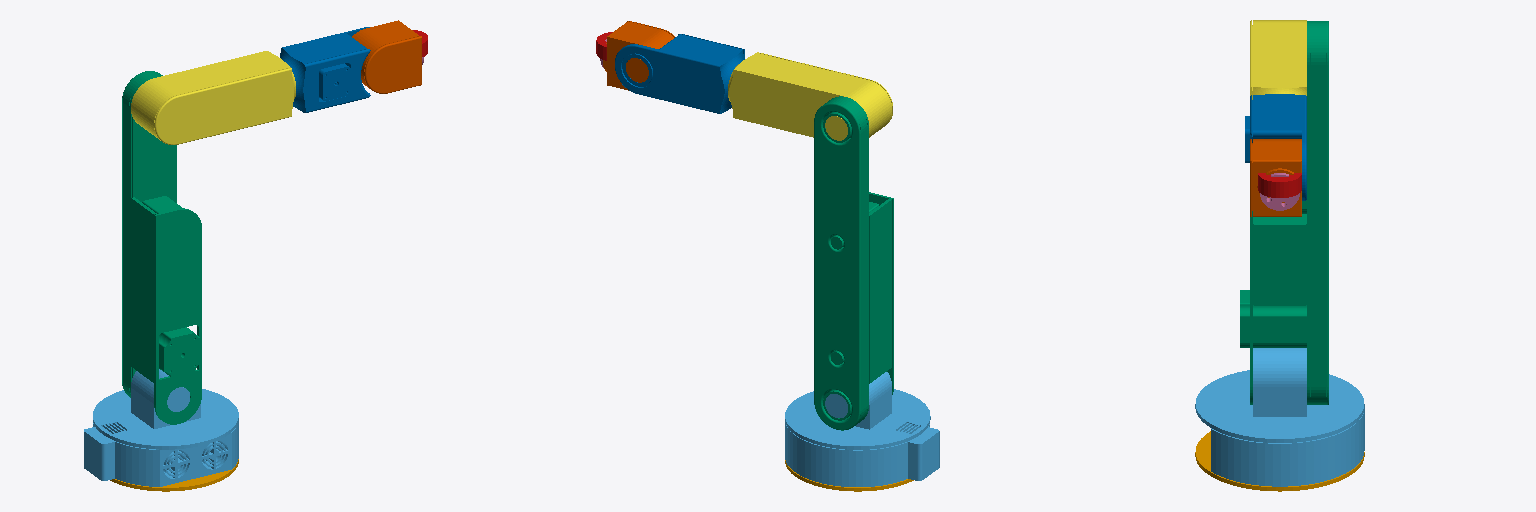
robot.urdf — my_robot:
<?xml version="1.0"?>
<robot name="my_robot">

  <!-- ********  FIXED GROUND  ******** -->
  <link name="fixed_ground">
    <visual>
      <geometry><mesh filename="fixed_ground.stl" scale="0.001 0.001 0.001"/></geometry>
    </visual>
    <collision>
      <geometry><mesh filename="fixed_ground.stl" scale="0.001 0.001 0.001"/></geometry>
    </collision>
    <inertial>
      <mass value="0.001"/>
      <inertia ixx="0.001" ixy="0.0" ixz="0.0" iyy="0.001" iyz="0.0" izz="0.001"/>
    </inertial>
  </link>

  <!-- ********  BASE  ******** -->
  <link name="base">
    <visual>
      <geometry><mesh filename="base.stl" scale="0.001 0.001 0.001"/></geometry>
    </visual>
    <collision>
      <geometry><mesh filename="base.stl" scale="0.001 0.001 0.001"/></geometry>
    </collision>
    <inertial>
      <mass value="0.8"/>
      <inertia ixx="0.001" ixy="0.0" ixz="0.0" iyy="0.001" iyz="0.0" izz="0.001"/>
    </inertial>
  </link>
  <joint name="joint0" type="revolute">
    <parent link="fixed_ground"/>
    <child link="base"/>
    <origin xyz="0 0 0.025" rpy="0 0 0"/>
    <axis xyz="0 0 1"/>
    <limit lower="-3.14" upper="3.14" effort="10" velocity="5"/>
  </joint>

  <!-- ********  LINK1  ******** -->
  <link name="link1">
    <visual>
      <geometry><mesh filename="link1.stl" scale="0.001 0.001 0.001"/></geometry>
    </visual>
    <collision>
      <geometry><mesh filename="link1.stl" scale="0.001 0.001 0.001"/></geometry>
    </collision>
    <inertial>
      <mass value="0.5"/>
      <inertia ixx="0.001" ixy="0.0" ixz="0.0" iyy="0.001" iyz="0.0" izz="0.001"/>
    </inertial>
  </link>
  <joint name="joint1" type="revolute">
    <parent link="base"/>
    <child link="link1"/>
    <origin xyz="0 0 0.076" rpy="0 0 0"/>
    <axis xyz="0 1 0"/>
    <limit lower="-3.14" upper="3.14" effort="10" velocity="5"/>
  </joint>

  <!-- ********  LINK2  ******** -->
  <link name="link2">
    <visual>
      <geometry><mesh filename="link2.stl" scale="0.001 0.001 0.001"/></geometry>
    </visual>
    <collision>
      <geometry><mesh filename="link2.stl" scale="0.001 0.001 0.001"/></geometry>
    </collision>
    <inertial>
      <mass value="0.4"/>
      <inertia ixx="0.001" ixy="0.0" ixz="0.0" iyy="0.001" iyz="0.0" izz="0.001"/>
    </inertial>
  </link>
  <joint name="joint2" type="revolute">
    <parent link="link1"/>
    <child link="link2"/>
    <origin xyz="0 0 0.4" rpy="0 0 0"/>
    <axis xyz="0 1 0"/>
    <limit lower="-3.14" upper="3.14" effort="10" velocity="5"/>
  </joint>

  <!-- ********  LINK3  ******** -->
  <link name="link3">
    <visual>
      <geometry><mesh filename="link3.stl" scale="0.001 0.001 0.001"/></geometry>
    </visual>
    <collision>
      <geometry><mesh filename="link3.stl" scale="0.001 0.001 0.001"/></geometry>
    </collision>
    <inertial>
      <mass value="0.3"/>
      <inertia ixx="0.001" ixy="0.0" ixz="0.0" iyy="0.001" iyz="0.0" izz="0.001"/>
    </inertial>
  </link>
  <joint name="joint3" type="revolute">
    <parent link="link2"/>
    <child link="link3"/>
    <origin xyz="0.18 0 0" rpy="0 0 0"/>
    <axis xyz="1 0 0"/>
    <limit lower="-3.14" upper="3.14" effort="10" velocity="5"/>
  </joint>

  <!-- ********  LINK4  ******** -->
  <link name="link4">
    <visual>
      <geometry><mesh filename="link4.stl" scale="0.001 0.001 0.001"/></geometry>
    </visual>
    <collision>
      <geometry><mesh filename="link4.stl" scale="0.001 0.001 0.001"/></geometry>
    </collision>
    <inertial>
      <mass value="0.2"/>
      <inertia ixx="0.001" ixy="0.0" ixz="0.0" iyy="0.001" iyz="0.0" izz="0.001"/>
    </inertial>
  </link>
  <joint name="joint4" type="revolute">
    <parent link="link3"/>
    <child link="link4"/>
    <origin xyz="0.135 0 0" rpy="0 0 0"/>
    <axis xyz="0 1 0"/>
    <limit lower="-3.14" upper="3.14" effort="10" velocity="5"/>
  </joint>

  <!-- ********  LINK5  ******** -->
  <link name="link5">
    <visual>
      <geometry><mesh filename="link5.stl" scale="0.001 0.001 0.001"/></geometry>
    </visual>
    <collision>
      <geometry><mesh filename="link5.stl" scale="0.001 0.001 0.001"/></geometry>
    </collision>
    <inertial>
      <mass value="0.15"/>
      <inertia ixx="0.001" ixy="0.0" ixz="0.0" iyy="0.001" iyz="0.0" izz="0.001"/>
    </inertial>
  </link>
  <joint name="joint5" type="revolute">
    <parent link="link4"/>
    <child link="link5"/>
    <origin xyz="0.05 0 0" rpy="0 0 0"/>
    <axis xyz="1 0 0"/>
    <limit lower="-3.14" upper="3.14" effort="10" velocity="5"/>
  </joint>

  <!-- ********  CIRCULAR MAGNET END-EFFECTOR  ******** -->
  <link name="magnet">
    <visual>
      <geometry><cylinder radius="0.025" length="0.02"/></geometry>
      <material name="magnet"><color rgba="0.8 0.1 0.1 1"/></material>
    </visual>
    <collision>
      <geometry><cylinder radius="0.025" length="0.02"/></geometry>
    </collision>
    <inertial>
      <mass value="0.05"/>
      <inertia ixx="0.00001" ixy="0.0" ixz="0.0" iyy="0.00001" iyz="0.0" izz="0.00001"/>
    </inertial>
  </link>
  <joint name="magnet_joint" type="fixed">
    <parent link="link5"/>
    <child link="magnet"/>
    <origin xyz="0 0 0.01" rpy="0 0 0"/>
  </joint>

</robot>

--- What the picture shows (computed from the rendered views, not written in the file) ---
The picture shows the robot from 3 angles, left to right: view 1: azimuth 30°, elevation 25°; view 2: azimuth 150°, elevation 25°; view 3: azimuth 270°, elevation 25°; orthographic projection.
Model my_robot with 8 links and 7 joints (6 revolute, 1 fixed), rooted at fixed_ground, posed all joints at 0.
Visible links, largest first — view 1: link1, base, link2, link3, link4, fixed_ground; view 2: link1, base, link2, link3, link4, fixed_ground; view 3: base, link1, link2, link3, link4, fixed_ground, magnet.
Boxes of the visible links, left/top/right/bottom form: link1: left=122, top=71, right=201, bottom=424; base: left=84, top=369, right=238, bottom=486; link2: left=131, top=51, right=295, bottom=144; link3: left=280, top=27, right=370, bottom=112; link4: left=352, top=20, right=421, bottom=93; fixed_ground: left=110, top=459, right=238, bottom=491; link1: left=814, top=96, right=893, bottom=430; base: left=785, top=372, right=939, bottom=486; link2: left=728, top=52, right=892, bottom=140; link3: left=615, top=34, right=744, bottom=113; link4: left=603, top=21, right=674, bottom=90; fixed_ground: left=785, top=460, right=913, bottom=491; base: left=1195, top=348, right=1364, bottom=486; link1: left=1240, top=21, right=1328, bottom=404; link2: left=1250, top=20, right=1306, bottom=99; link3: left=1245, top=94, right=1306, bottom=200; link4: left=1250, top=139, right=1301, bottom=216; fixed_ground: left=1195, top=431, right=1364, bottom=491; magnet: left=1258, top=173, right=1301, bottom=197.
Size in the robot's own frame: 0.5 by 0.19 by 0.536 metres.
Meshes: 7 distinct files referenced, 7 mesh visuals loaded (7 binary STL).
